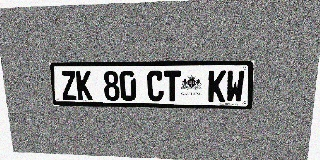0: (119, 71, 136, 101)
8: (103, 71, 120, 101)
C: (147, 71, 163, 101)
K: (208, 70, 226, 102), (76, 71, 93, 100)
T: (164, 70, 181, 102)
W: (226, 70, 245, 102)
Z: (60, 71, 77, 100)
